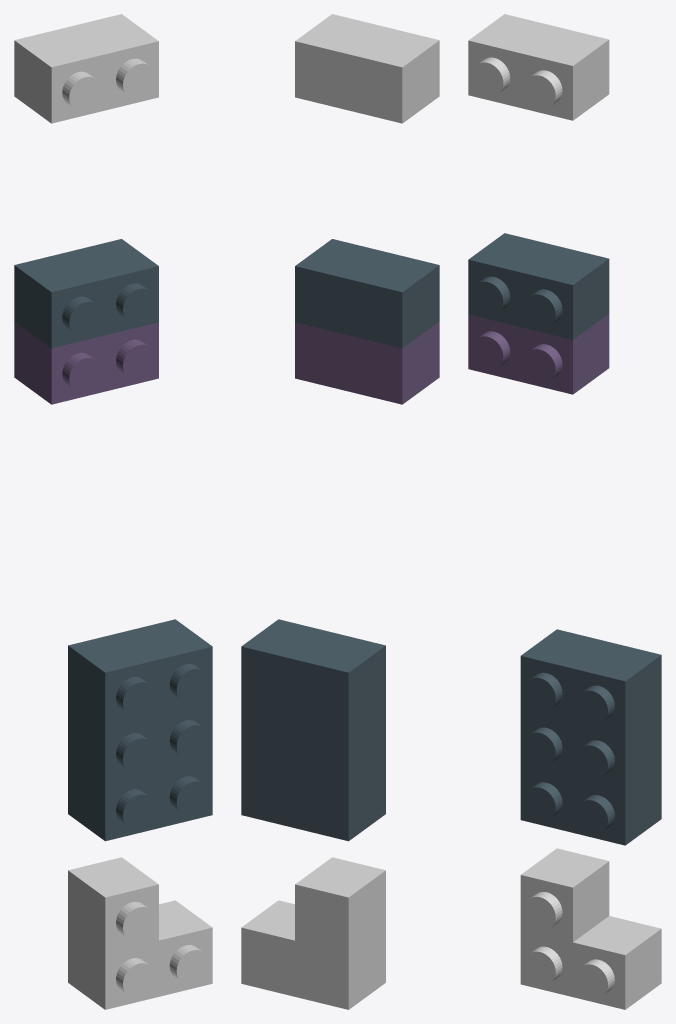
The model's file is current.glb.
3 renders of one model, left to right at view 1: azimuth 30°, elevation 25°; view 2: azimuth 150°, elevation 25°; view 3: azimuth 330°, elevation 25°, orthographic. The views are drawn at different scales.
Visible parts, largest first — view 1: world; view 2: world; view 3: world.
Boxes of the visible parts, <box> form: world: <box>14,14,212,1009</box>; world: <box>241,14,439,1009</box>; world: <box>468,14,661,1009</box>.
Bounding box in the file's own units: 24 × 136 × 11.4.
